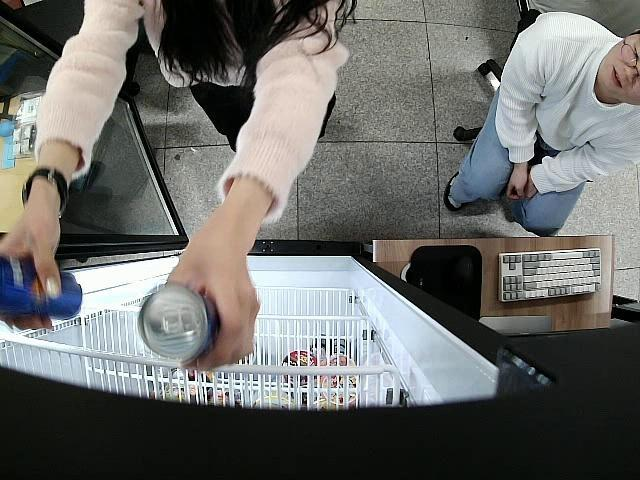16_hot6: (137, 282, 220, 362), (0, 252, 85, 318)
